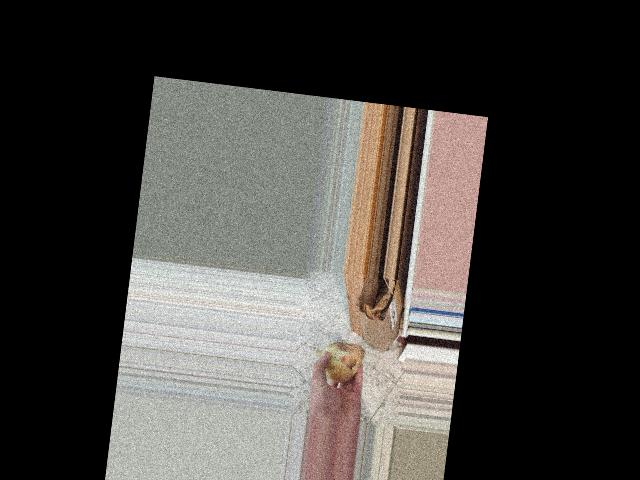onion: (312, 334, 368, 389)
